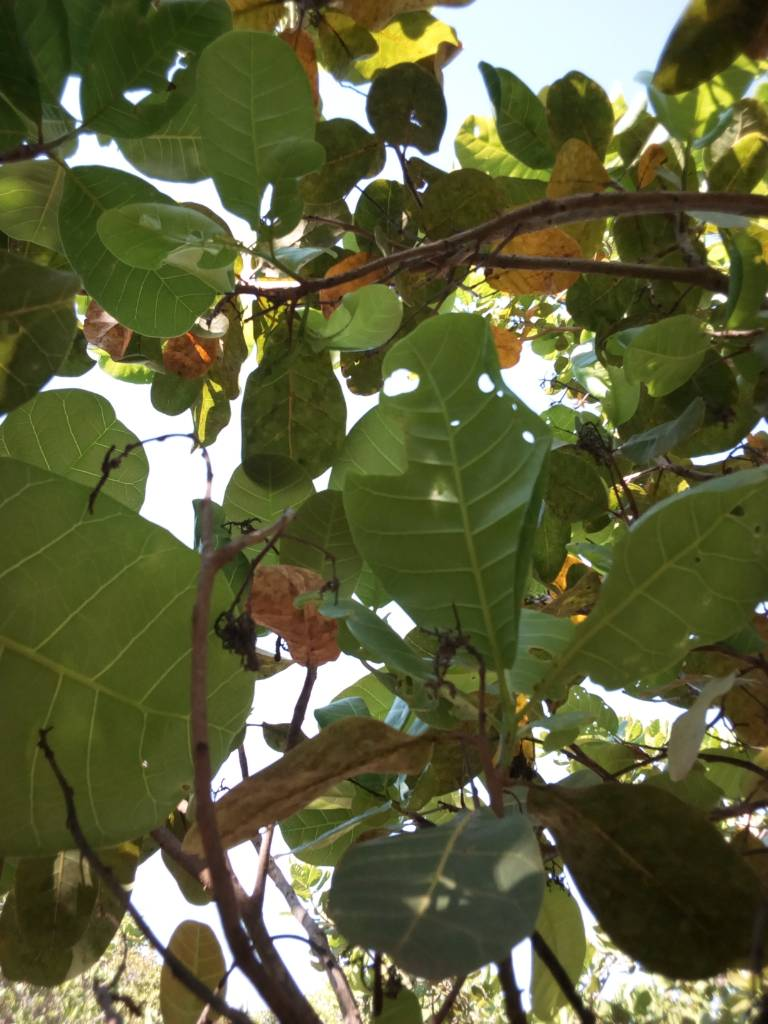Bactériose: (324, 594, 458, 722), (424, 605, 493, 714), (88, 432, 157, 507)
